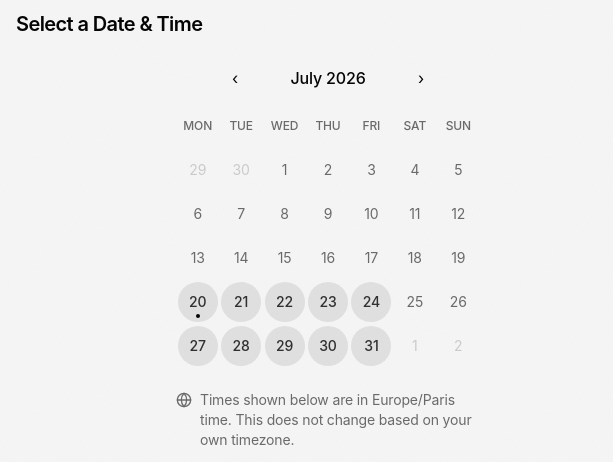
BookingSection — date-time-picker block › RED: selecting a slot and confirming produces a payload carrying the selected start time and timezone, matching the clicked config entry
The image size is (613, 462).
Step 1. Click the button "20" → click(198, 302), box [178,282,218,322]
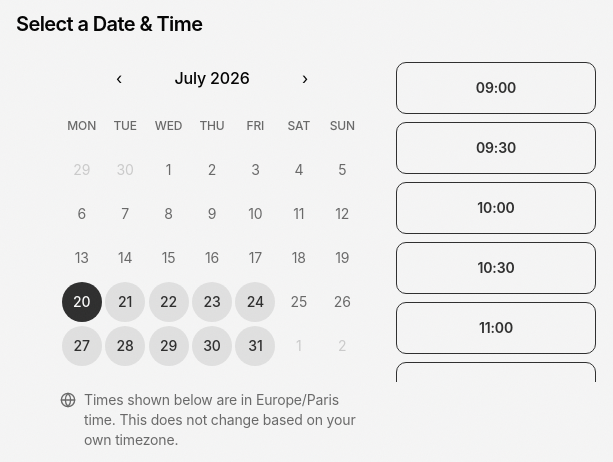
Step 2. Click the button "09:00" → click(496, 88), box [396,62,596,114]
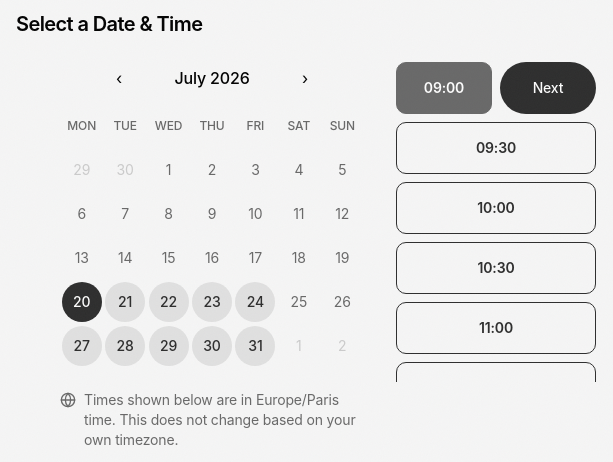
Step 3. Click the button "Next" → click(548, 88), box [500,62,596,114]
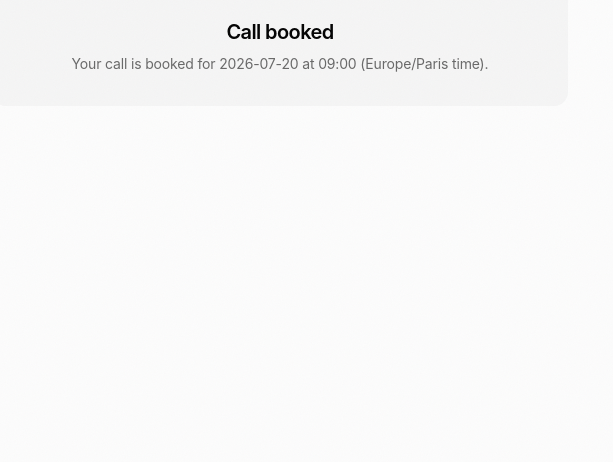
expect the heading "Call booked" is shown: met, box [226,20,334,44]
